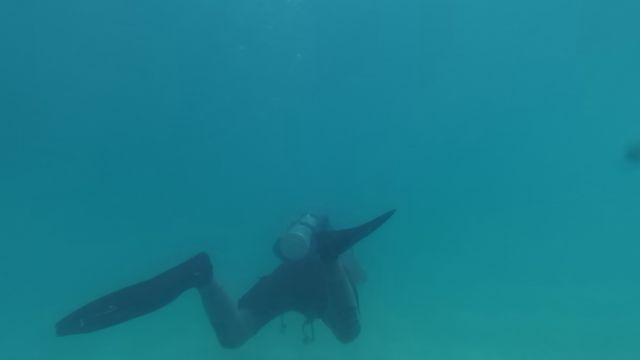Diver: (48, 196, 404, 352)
